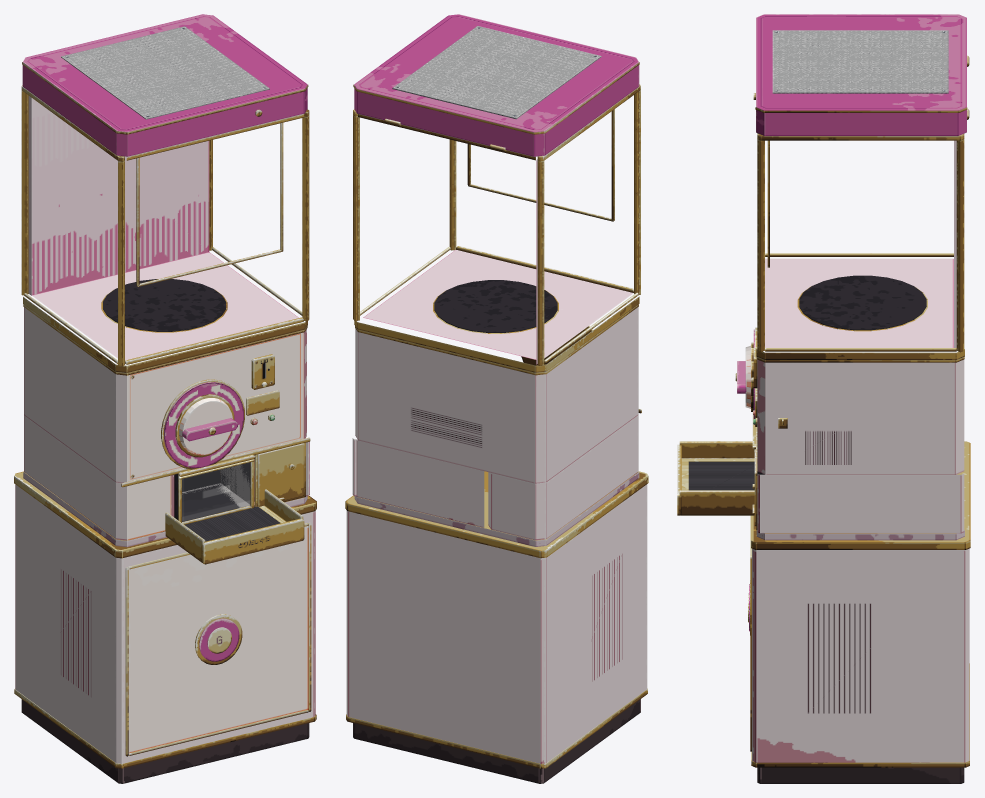
The model's file is royal.glb.
3 renders of one model, left to right at view 1: azimuth 30°, elevation 25°; view 2: azimuth 150°, elevation 25°; view 3: azimuth 270°, elevation 25°, orthographic. The views are drawn at different scales.
Parts seen in each view (by area): view 1: body, stand, lid, flap, crank, drawer; view 2: body, stand, lid; view 3: body, stand, lid, crank.
Part boxes in pixels (left/top/right/bottom): body: left=21, top=85, right=310, bottom=564; stand: left=14, top=471, right=316, bottom=783; lid: left=22, top=14, right=308, bottom=156; flap: left=179, top=459, right=254, bottom=521; crank: left=175, top=394, right=237, bottom=457; drawer: left=254, top=443, right=304, bottom=506; body: left=352, top=84, right=641, bottom=546; stand: left=345, top=471, right=648, bottom=783; lid: left=353, top=14, right=639, bottom=156; body: left=677, top=133, right=964, bottom=540; stand: left=748, top=441, right=970, bottom=783; lid: left=753, top=14, right=969, bottom=136; crank: left=735, top=342, right=753, bottom=411.
Bounding box in the file's own units: 0.466 × 1.44 × 0.566.
Materials: 8 (8 with a texture image).
